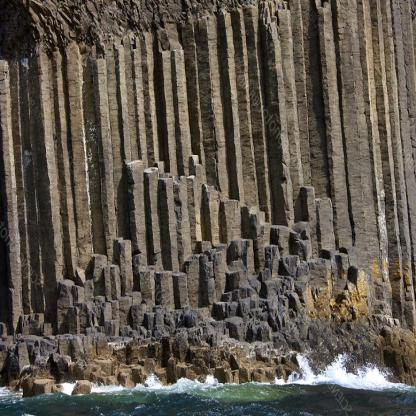Igneous_Basalt: (315, 6, 351, 274), (29, 45, 65, 294), (72, 54, 110, 260), (0, 56, 22, 335), (265, 13, 291, 227), (223, 3, 238, 198), (168, 40, 187, 161), (144, 166, 163, 256)
